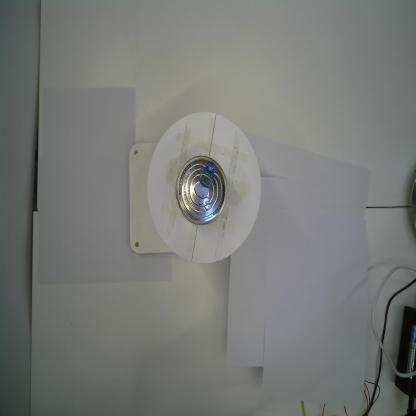Canned Food: (175, 154, 228, 226)
